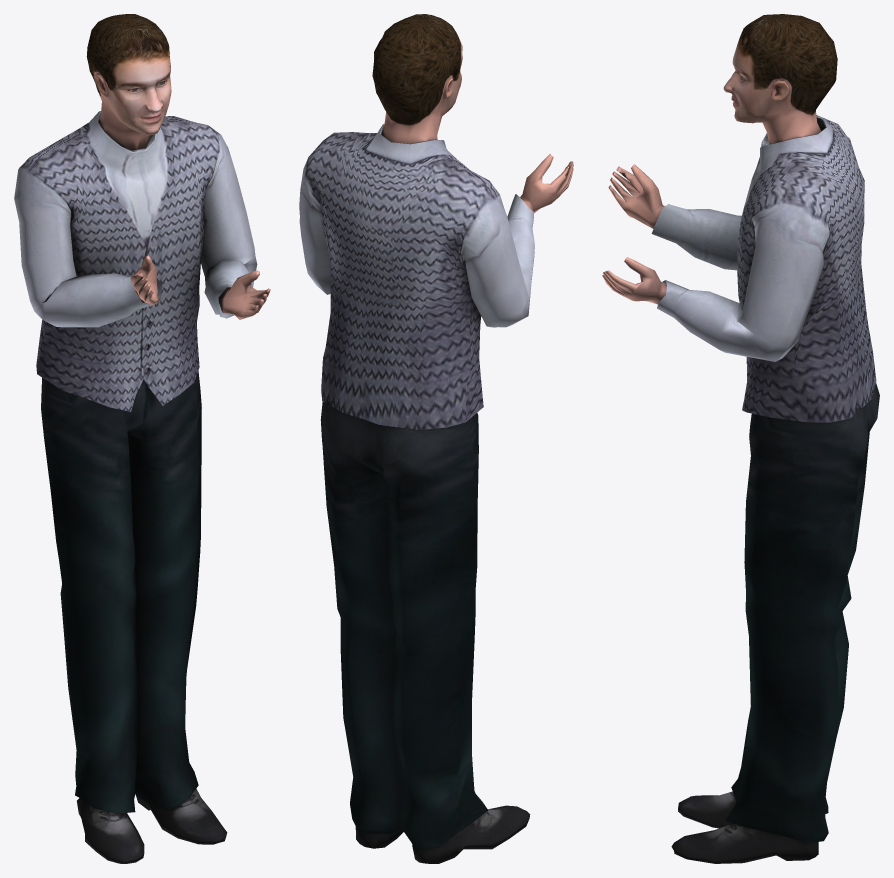
File: SWT01_05_01.fbx
3 views of the same model, side by side, from view 1: azimuth 30°, elevation 25°; view 2: azimuth 150°, elevation 25°; view 3: azimuth 270°, elevation 25° (orthographic). The views are drawn at different scales.
Parts seen in each view (by area): view 1: WAIT01_05_01; view 2: WAIT01_05_01; view 3: WAIT01_05_01.
Part boxes in pixels (bbox=[...]): WAIT01_05_01: bbox=[14, 14, 270, 863]; WAIT01_05_01: bbox=[299, 14, 573, 863]; WAIT01_05_01: bbox=[602, 14, 879, 863].
Bounding box in the file's own units: 19.82 × 70.54 × 21.67.
